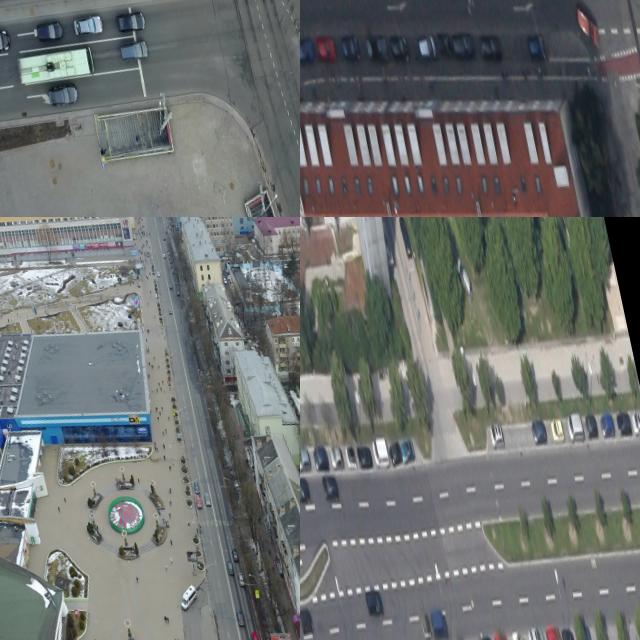UAI: (574, 2, 602, 52), (453, 251, 475, 303), (71, 11, 105, 41), (47, 81, 81, 109), (114, 7, 147, 35), (363, 32, 389, 65), (118, 37, 150, 63), (478, 32, 503, 64), (35, 18, 65, 44), (416, 31, 439, 63), (525, 30, 547, 63), (388, 32, 410, 64), (451, 31, 475, 60), (565, 409, 585, 443), (339, 33, 361, 63), (364, 587, 385, 618), (370, 436, 390, 468), (397, 217, 412, 259), (316, 36, 337, 64), (429, 609, 448, 638), (320, 473, 339, 502), (311, 443, 329, 472), (615, 409, 633, 437), (436, 29, 453, 58), (488, 422, 505, 449), (598, 412, 615, 438), (530, 418, 547, 444), (399, 437, 416, 463), (387, 439, 403, 466), (355, 444, 372, 469), (583, 413, 599, 439), (549, 416, 565, 442), (328, 444, 344, 470), (300, 37, 314, 65), (343, 443, 357, 470), (525, 623, 545, 640), (300, 607, 313, 633), (629, 409, 640, 435), (300, 475, 310, 503), (234, 607, 246, 629), (420, 616, 432, 638), (300, 444, 310, 470), (544, 626, 562, 640), (559, 625, 575, 640), (508, 626, 525, 640), (225, 559, 235, 576), (249, 627, 261, 640), (237, 571, 246, 588), (194, 494, 203, 509), (231, 547, 239, 563), (493, 632, 509, 640), (203, 492, 211, 507), (193, 480, 201, 494), (479, 633, 495, 640), (167, 306, 172, 314), (168, 284, 172, 290), (156, 270, 160, 276)
car: (15, 42, 96, 91)
harvester: (177, 584, 201, 613), (0, 26, 12, 56)
